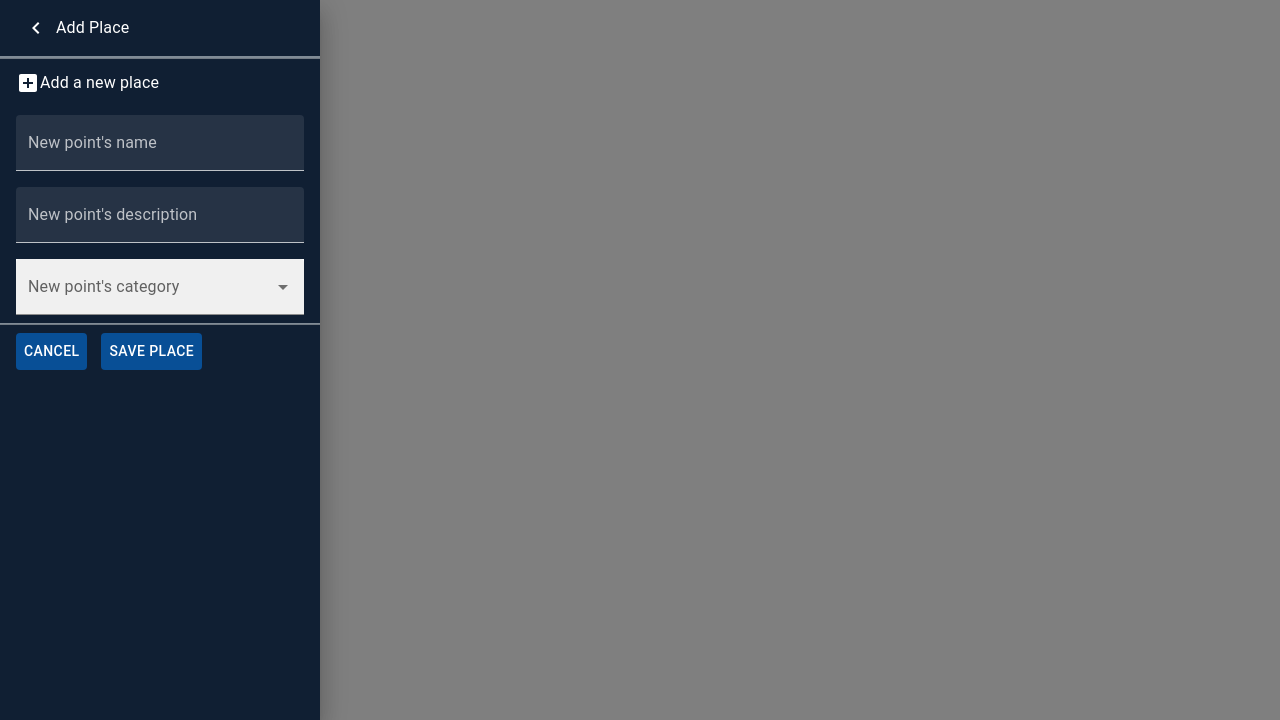
it: fill in AddPoint data no category
This screenshot has width=1280, height=720.
Step 1. Type "Punto1" into the field → (160, 143), box [16,115,304,171]
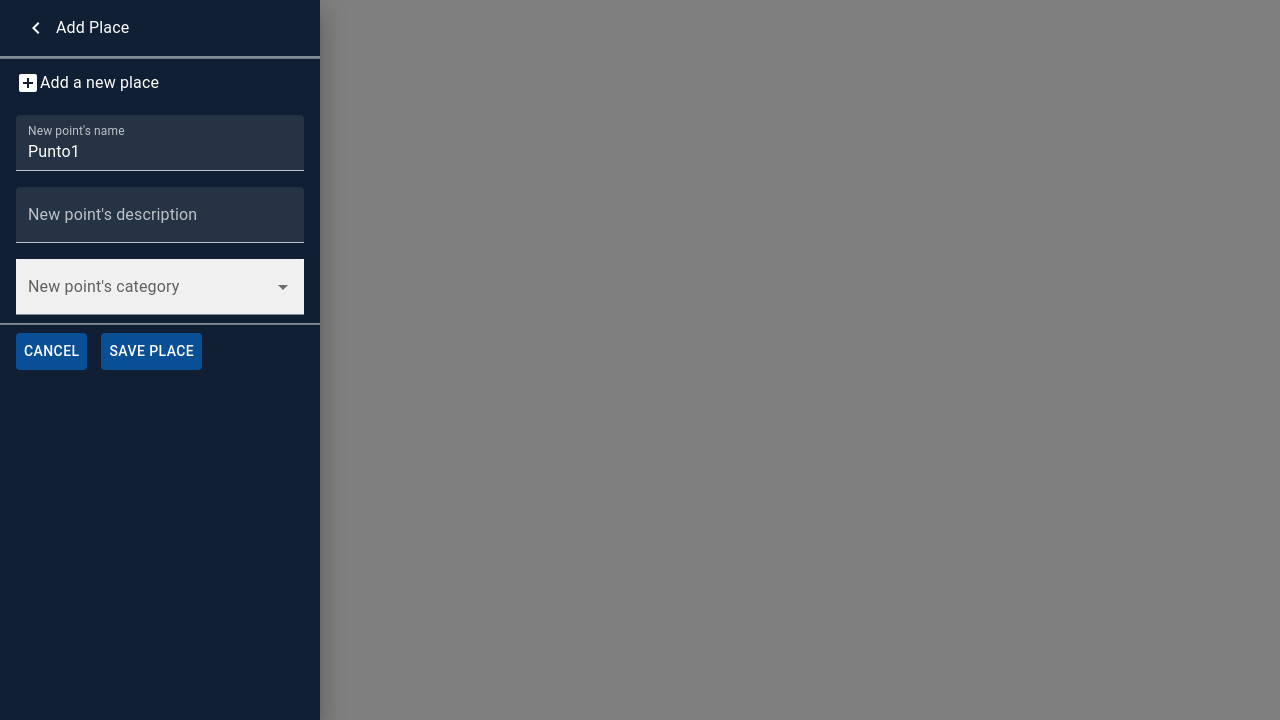
Step 2. Click the button "Save Place" → (152, 351), box [102,333,202,370]
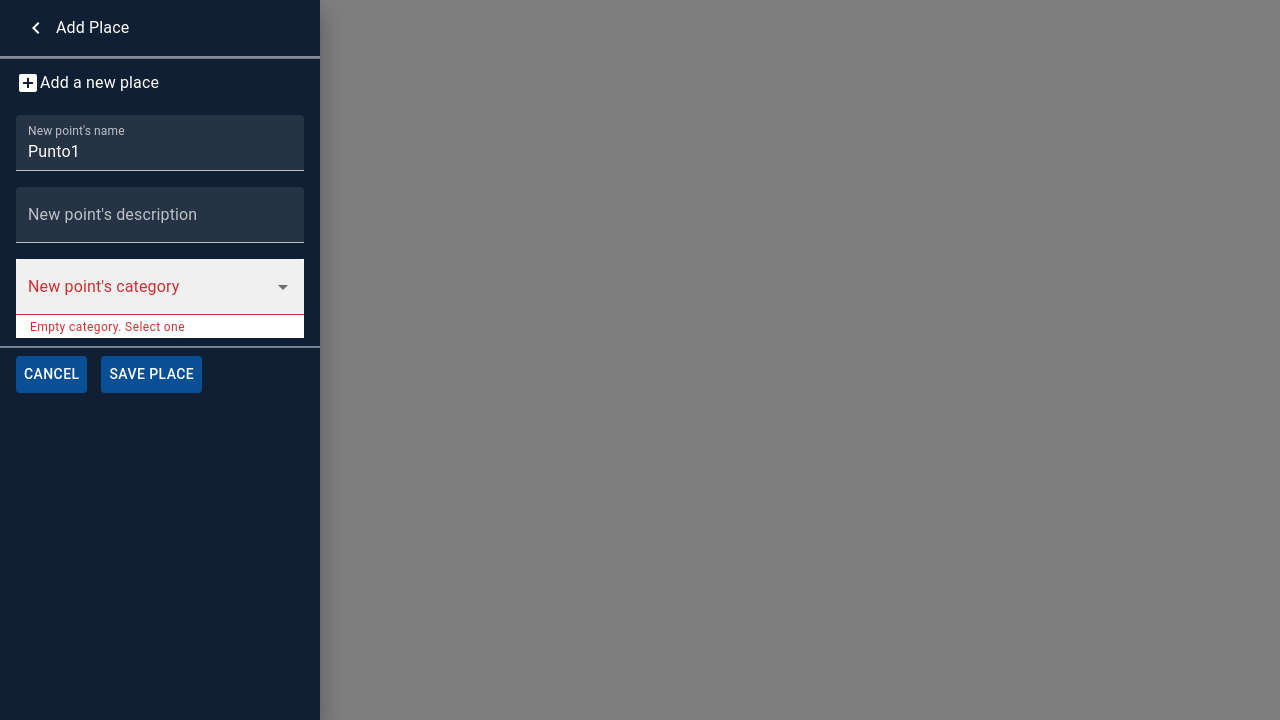
Check: the text "Empty category. Select one" is shown, box [30,320,185,334]
